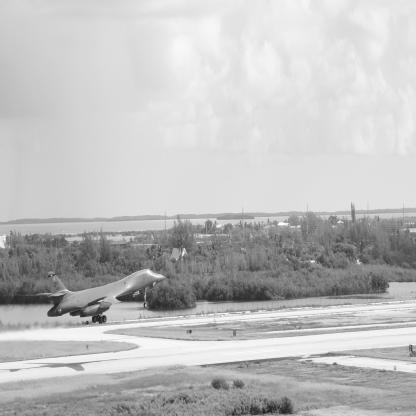B1: (36, 270, 166, 325)
